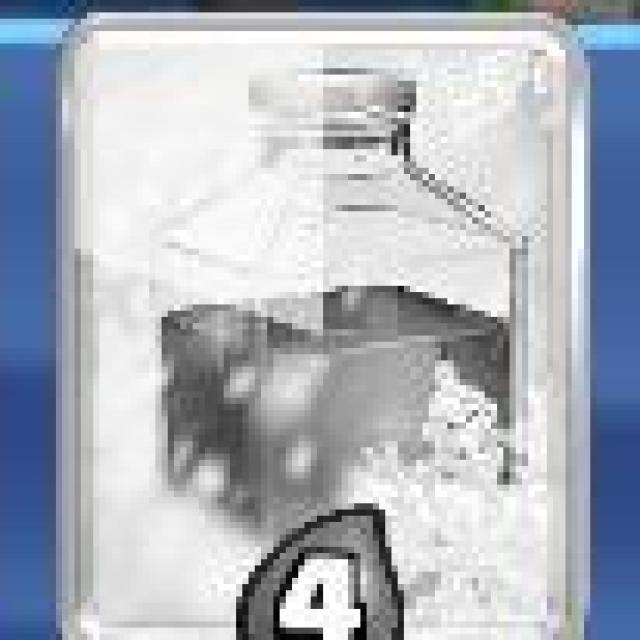Freeze: (49, 13, 586, 640)
